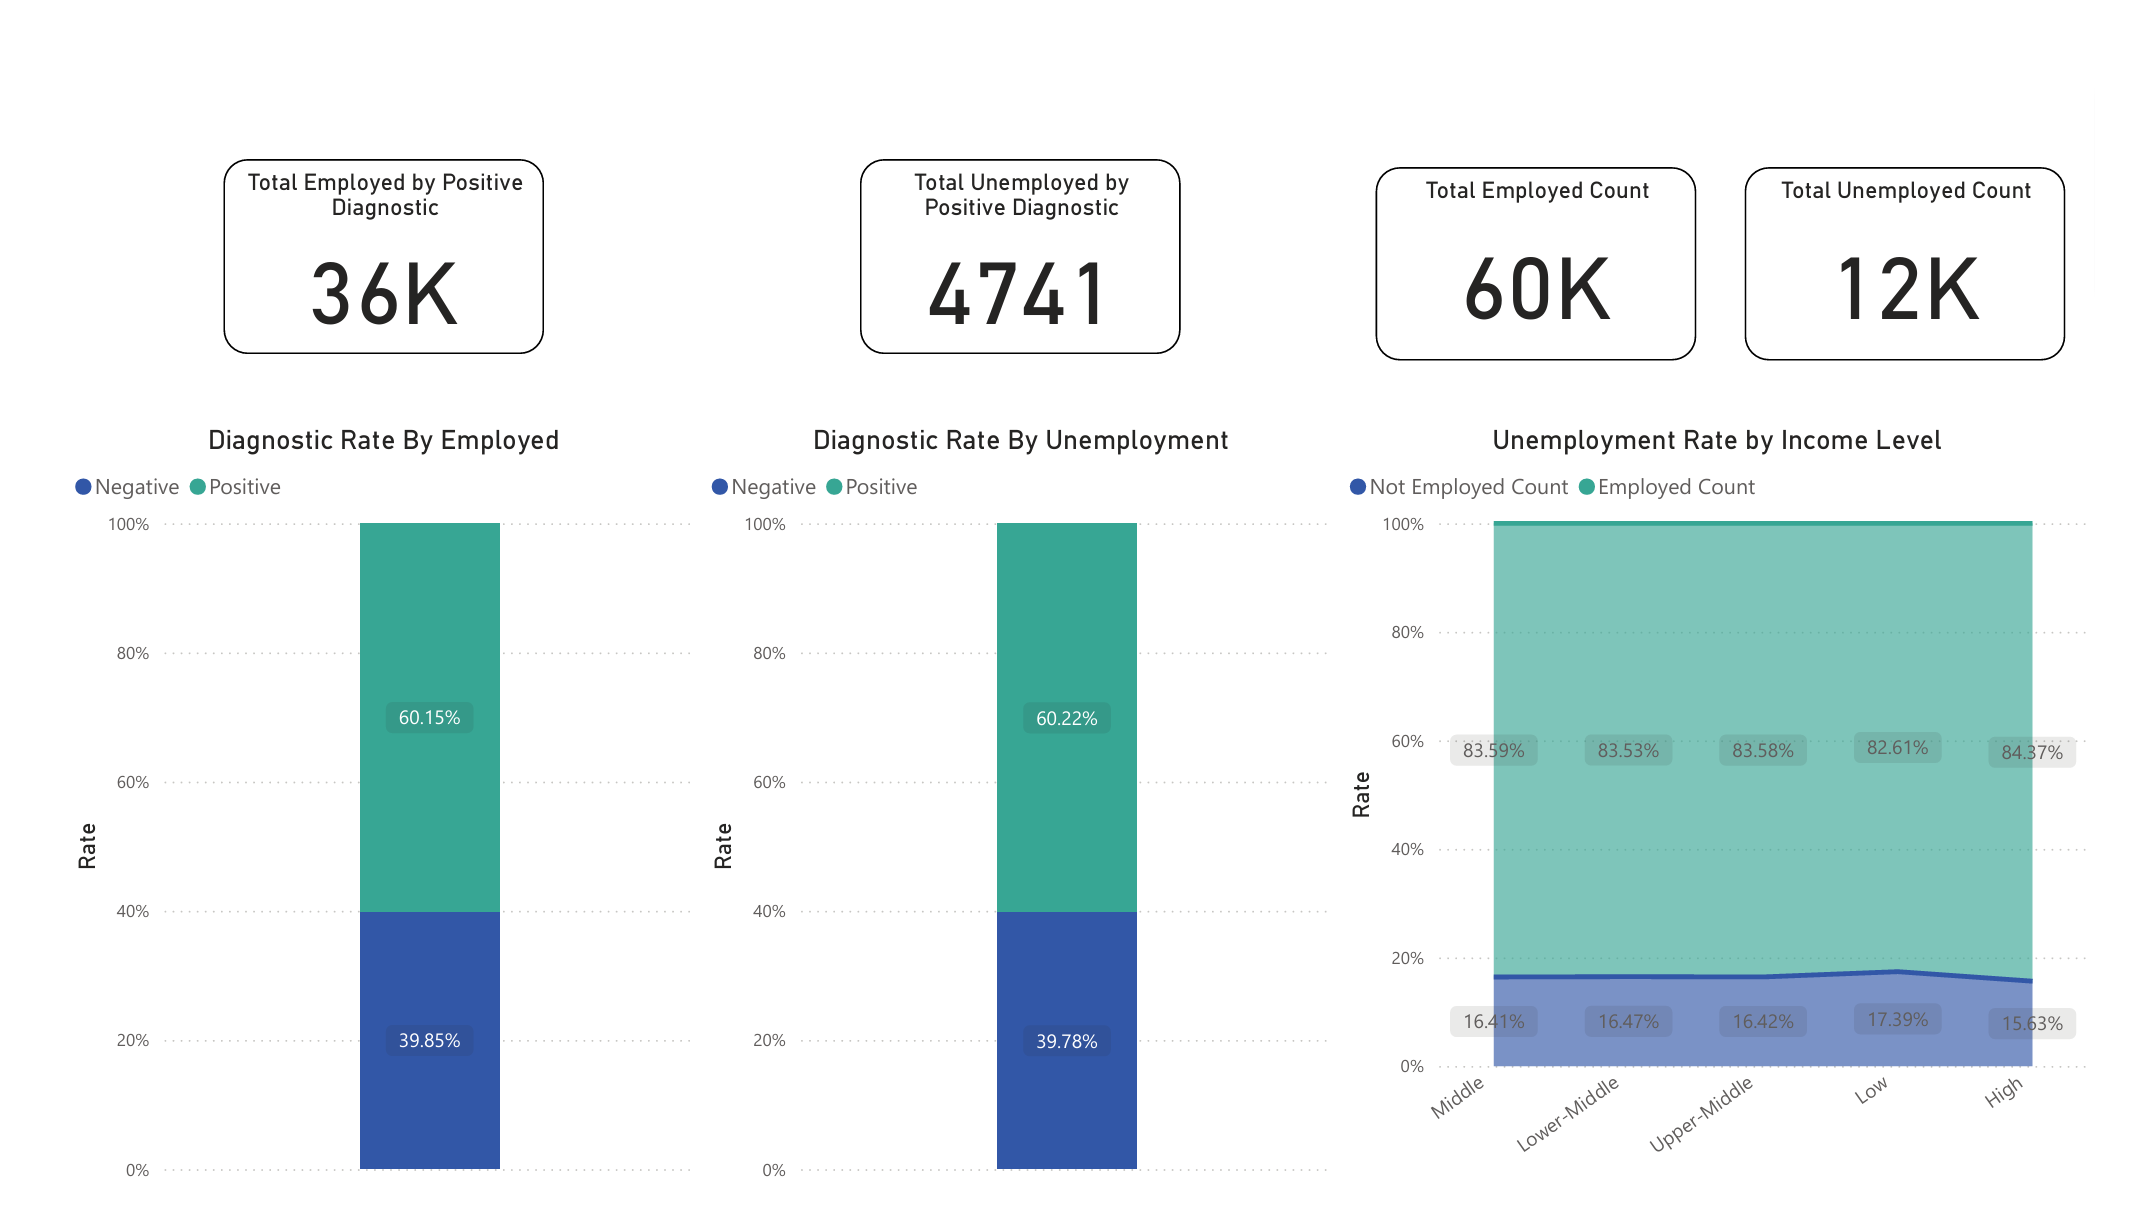

What the dashboard file says about the page in this screenshot:
{"tool":"powerbi","page":{"name":"economic analysis","canvas":[1280,720],"ordinal":3},"visuals":[{"type":"hundredPercentStackedColumnChart","title":"Diagnostic Rate By Unemployment","fields":{"Y":["diabetes_dataset.Unemployment Count By Negativity","diabetes_dataset.Unemployment Count By Positivity"]},"box":[416.2,243.3,395.6,476.7],"z":1000},{"type":"hundredPercentStackedColumnChart","title":"Diagnostic Rate By Employed","fields":{"Y":["diabetes_dataset.Employment Count By Negativity","diabetes_dataset.Employment Count By Positivity"]},"box":[20.9,243.4,395.3,476.4],"z":2000},{"type":"hundredPercentStackedAreaChart","title":"Unemployment Rate by Income Level","fields":{"Category":["diabetes_dataset.income_level"],"Y":["diabetes_dataset.Not Employed Count","diabetes_dataset.Employed Count"]},"box":[811.7,243.3,468.6,476.7],"z":2001},{"type":"card","title":"Total Employed Count","fields":{"Values":["diabetes_dataset.Employed Count"]},"box":[834.4,83.8,198.9,120.4],"z":2002},{"type":"card","title":"Total Unemployed Count","fields":{"Values":["diabetes_dataset.Not Employed Count"]},"box":[1063.4,83.8,198.9,120.4],"z":2003},{"type":"card","title":"Total Unemployed by Positive Diagnostic","fields":{"Values":["diabetes_dataset.Unemployment Count By Negativity"]},"box":[514.4,79.2,198.9,120.4],"z":2006},{"type":"card","title":"Total Employed by Positive Diagnostic","fields":{"Values":["diabetes_dataset.Employment Count By Positivity"]},"box":[119.1,79.2,198.9,120.4],"z":2007}]}

Visuals, with their boxes in screenshot pixels (x1, y1, x2, y2), scaled from the page's 1280x720 canvas onto the 2130x1227 screenshot:
"Diagnostic Rate By Unemployment" hundredPercentStackedColumnChart: {"left": 693, "top": 415, "right": 1351, "bottom": 1226}
"Diagnostic Rate By Employed" hundredPercentStackedColumnChart: {"left": 35, "top": 415, "right": 693, "bottom": 1226}
"Unemployment Rate by Income Level" hundredPercentStackedAreaChart: {"left": 1351, "top": 415, "right": 2129, "bottom": 1226}
"Total Employed Count" card: {"left": 1388, "top": 143, "right": 1719, "bottom": 348}
"Total Unemployed Count" card: {"left": 1770, "top": 143, "right": 2101, "bottom": 348}
"Total Unemployed by Positive Diagnostic" card: {"left": 856, "top": 135, "right": 1187, "bottom": 340}
"Total Employed by Positive Diagnostic" card: {"left": 198, "top": 135, "right": 529, "bottom": 340}
